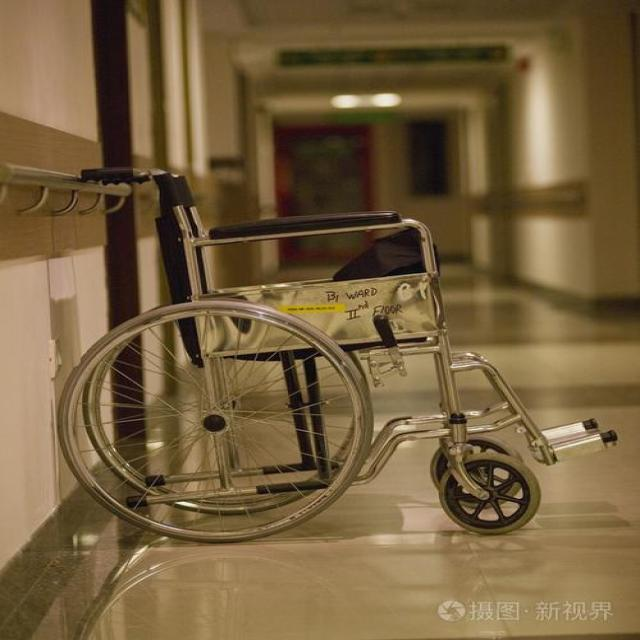wheelchairs: (54, 152, 622, 565)
